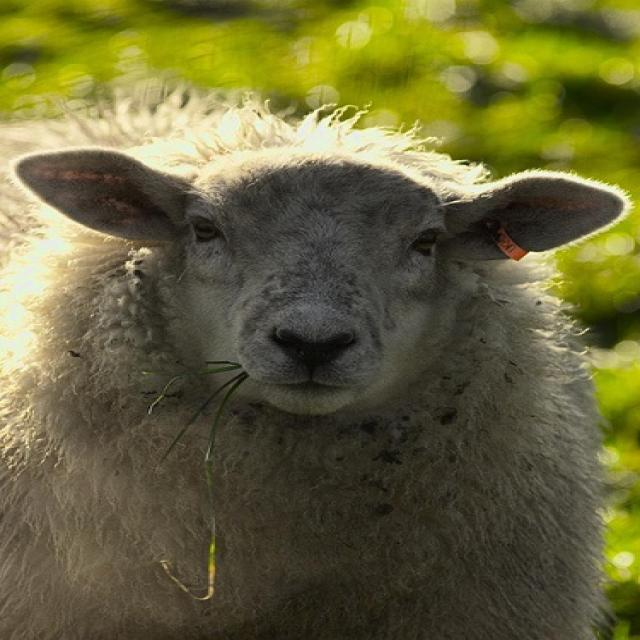sheep: (2, 87, 626, 637)
